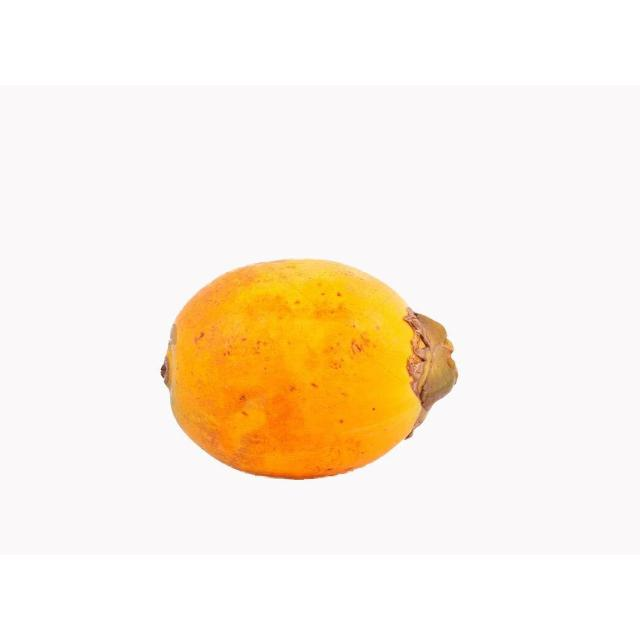good: (160, 259, 459, 482)
